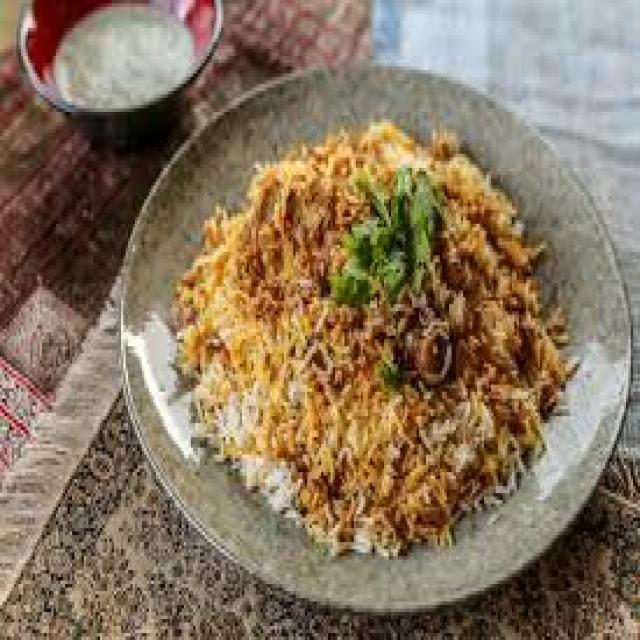chicken biryani: (209, 149, 552, 534)
